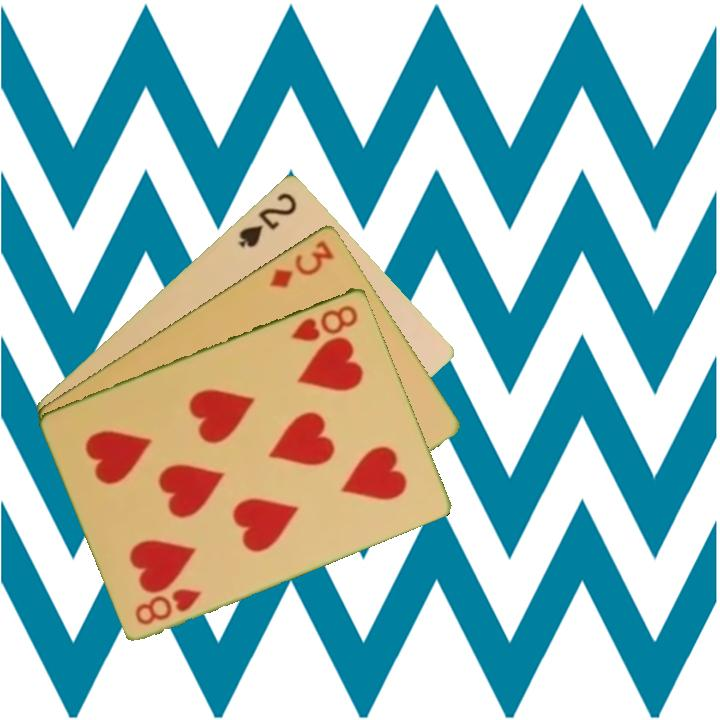2s: (235, 188, 300, 250)
3d: (265, 236, 337, 291)
8h: (131, 584, 205, 628), (288, 301, 361, 344)
